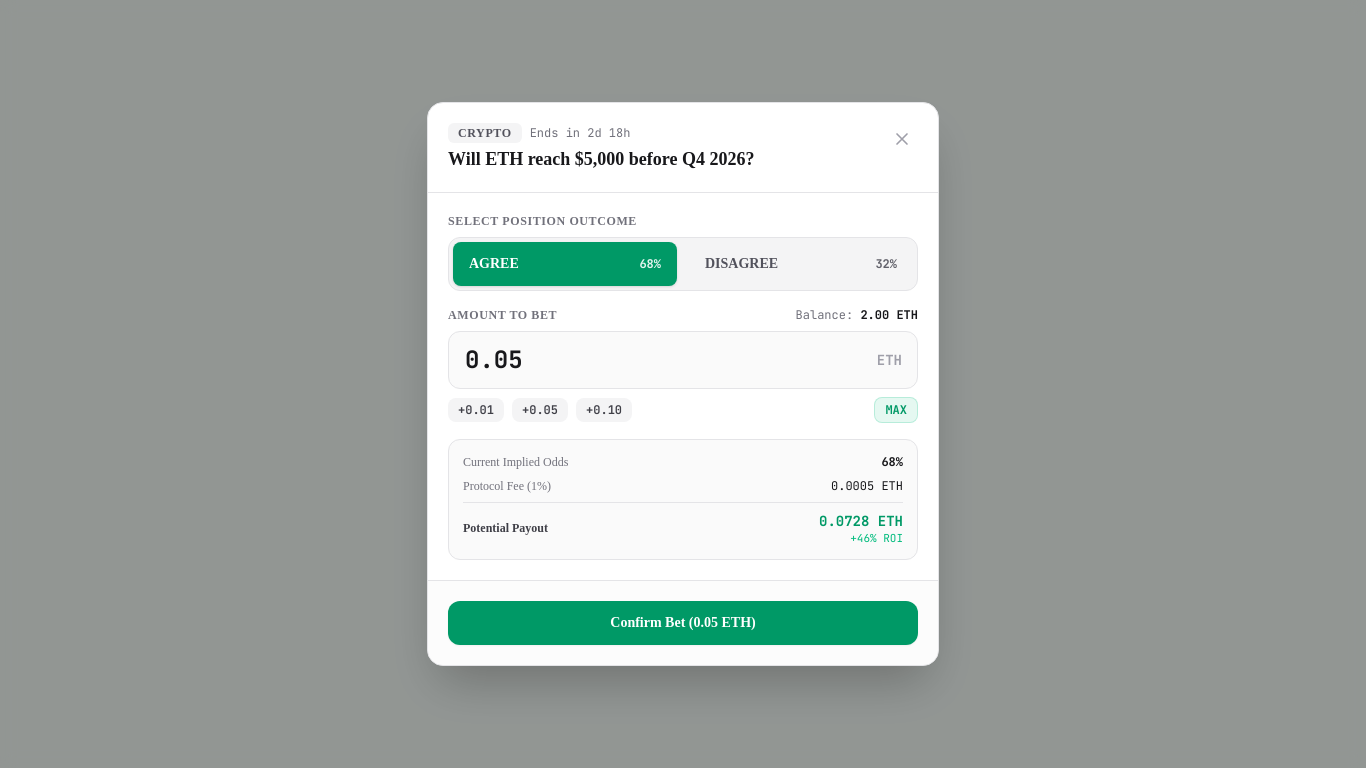
Test: BettingModal Component › updates amount when preset button or MAX is clicked
Expected: the field named "bet amount in eth" holds "0.05", top-left (448, 330), bottom-right (918, 388)
Click the button "+0.10" at (604, 410), box top-left (576, 398), bottom-right (632, 422)
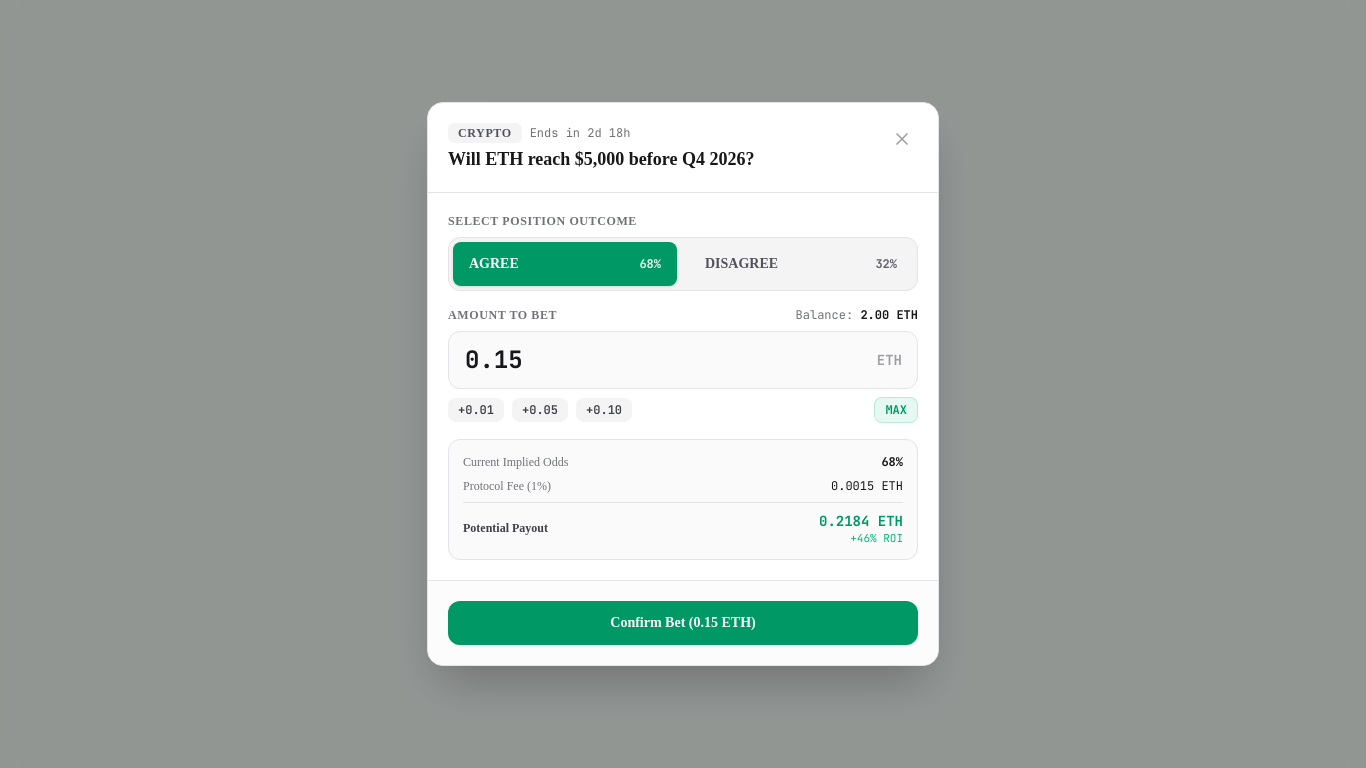
Expected: the field named "bet amount in eth" holds "0.15", top-left (448, 330), bottom-right (918, 388)
Click the button "MAX" at (896, 410), box top-left (874, 396), bottom-right (918, 422)
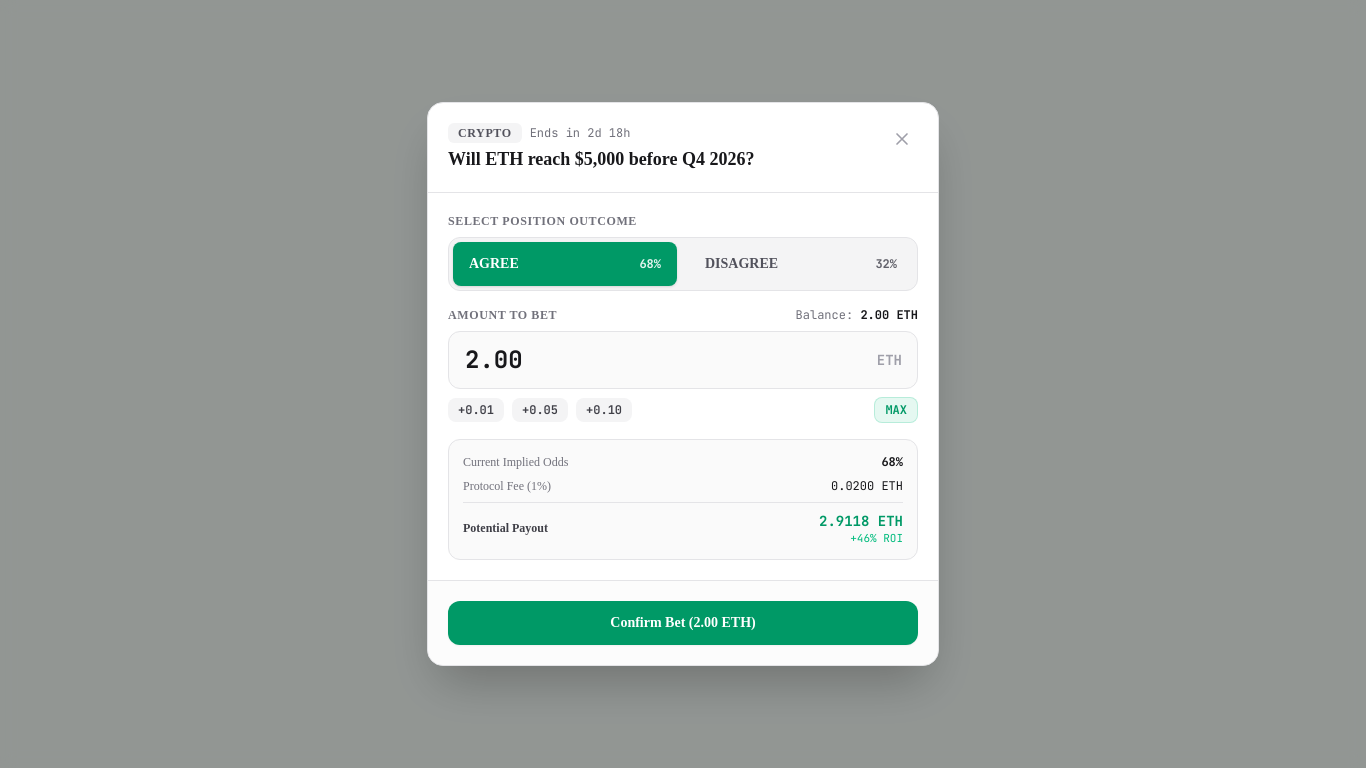
Expected: the field named "bet amount in eth" holds "2.00", top-left (448, 330), bottom-right (918, 388)
